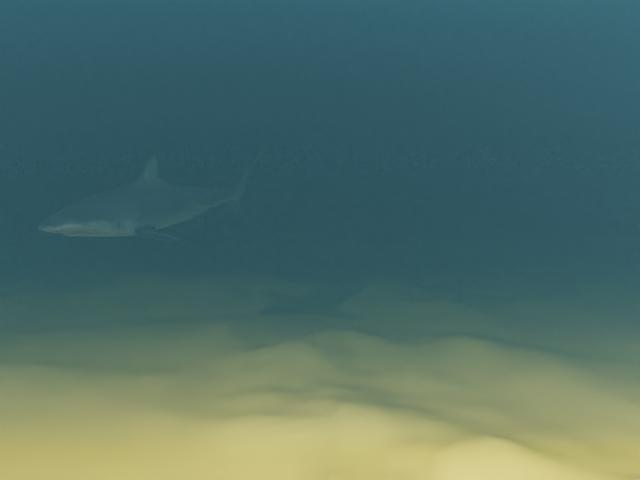Carribean Shark.001: (38, 146, 269, 245)
